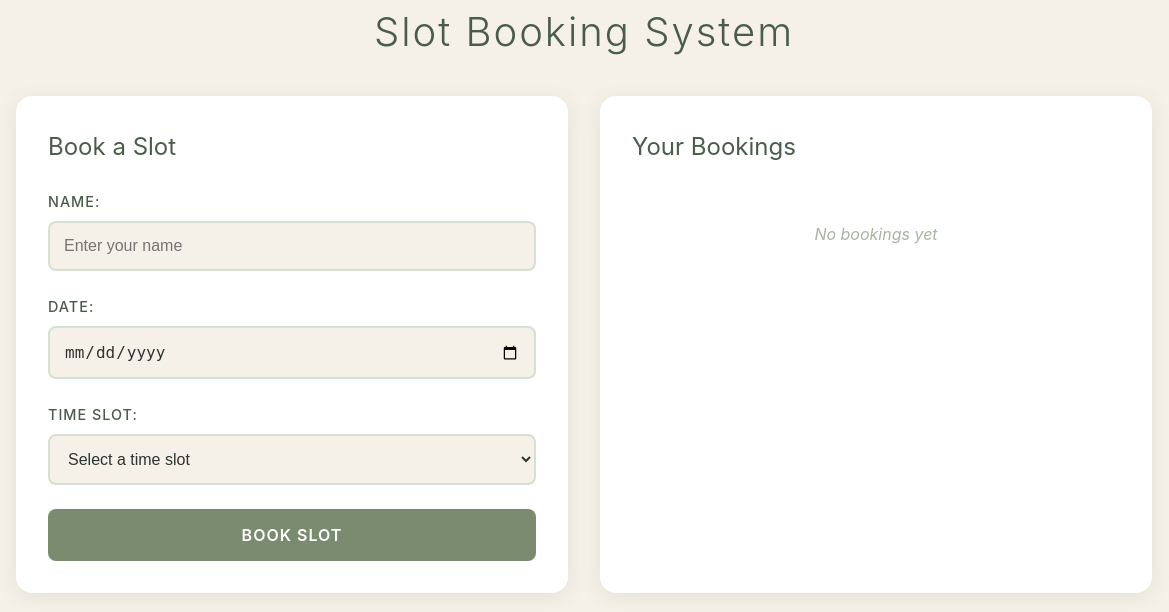
it: Slot Booking System › creates a booking when form is submitted
Type "Jane Smith" into the field with placeholder "Enter your name" at coordinates (292, 246), box [48,221,536,271]
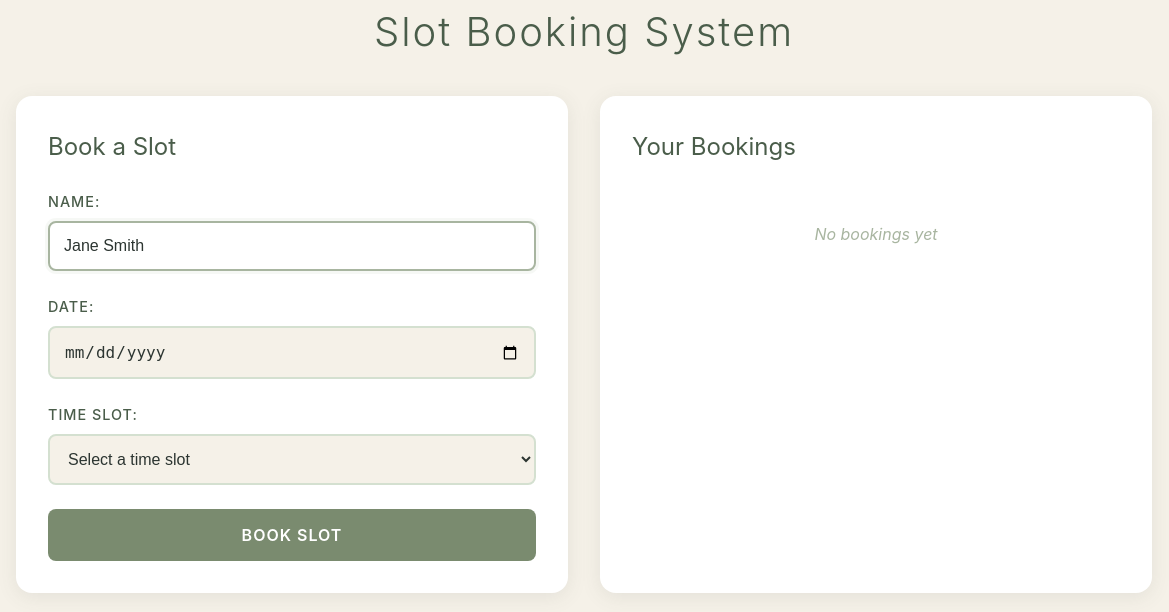
Type "2025-12-15" into the date field labelled "Date:" at coordinates (292, 353), box [48,326,536,379]
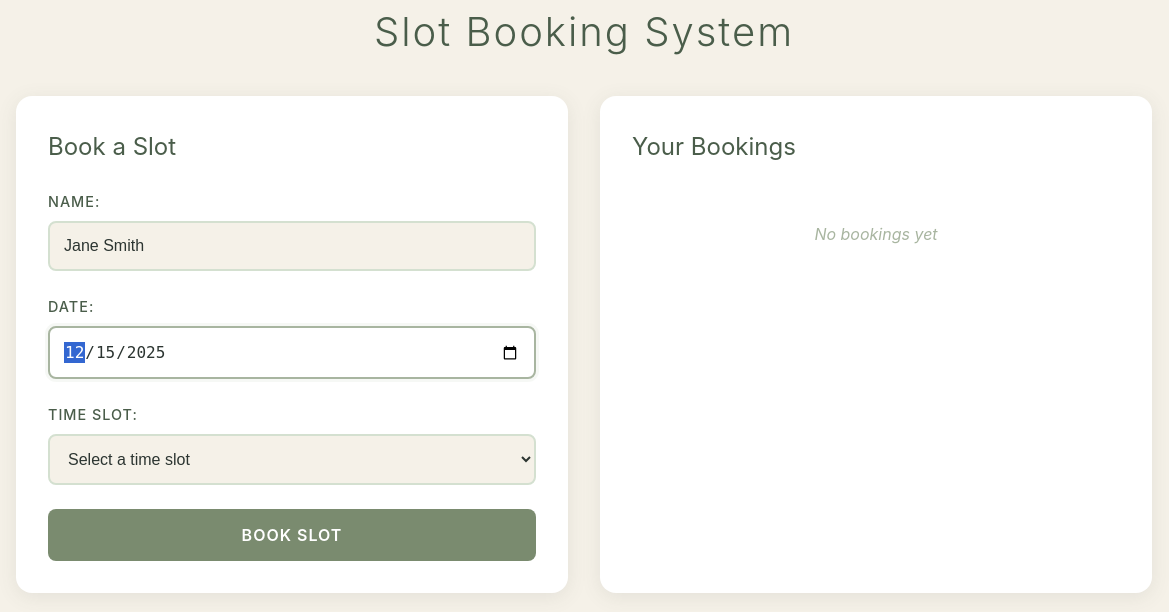
Select "02:00 PM" in the dropdown labelled "Time Slot:" at coordinates (292, 460), box [48,434,536,485]
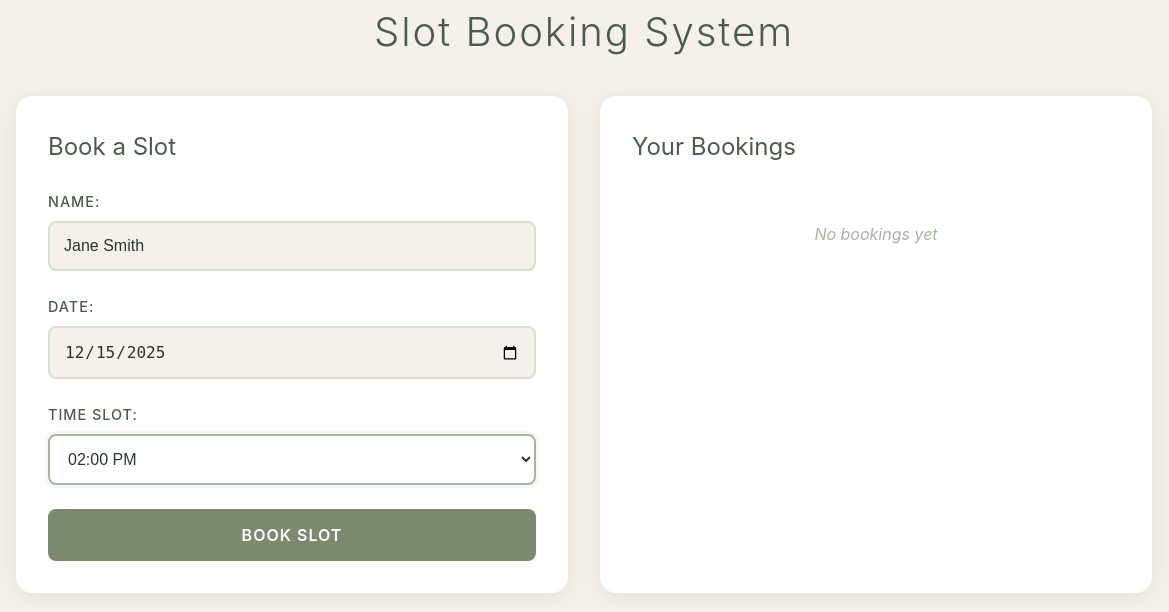
Click the button "Book Slot" at coordinates (292, 535), box [48,509,536,561]
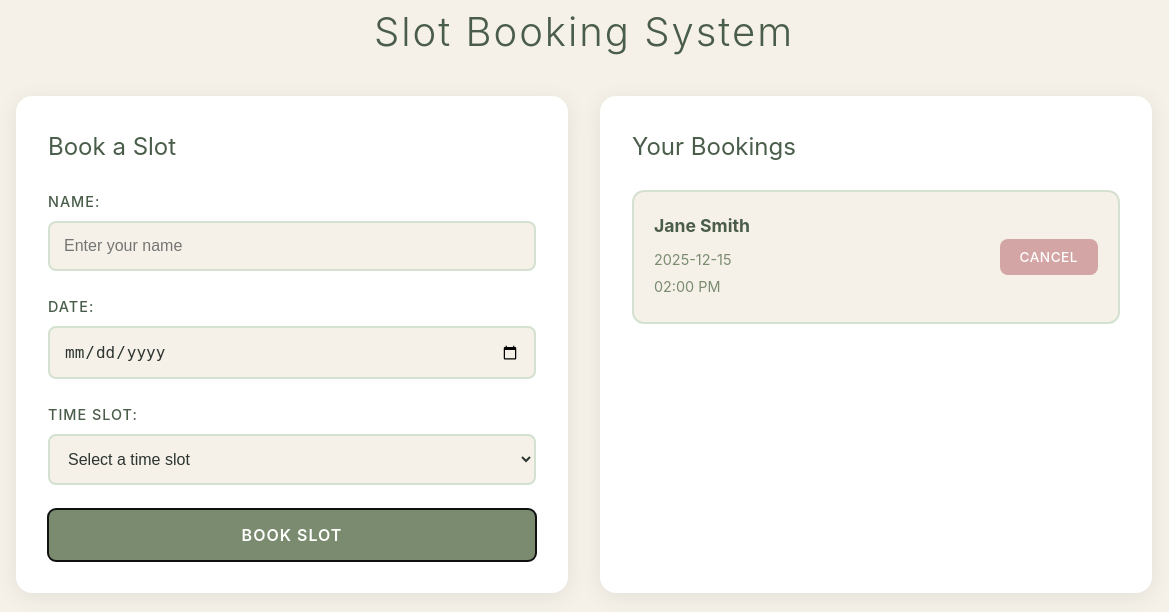
Check: the text "Jane Smith" is shown, box [654,215,750,236]
Check: the text "Jane Smith" shows "2025-12-15", box [654,251,731,268]
Check: the text "Jane Smith" shows "02:00 PM", box [654,278,720,295]
